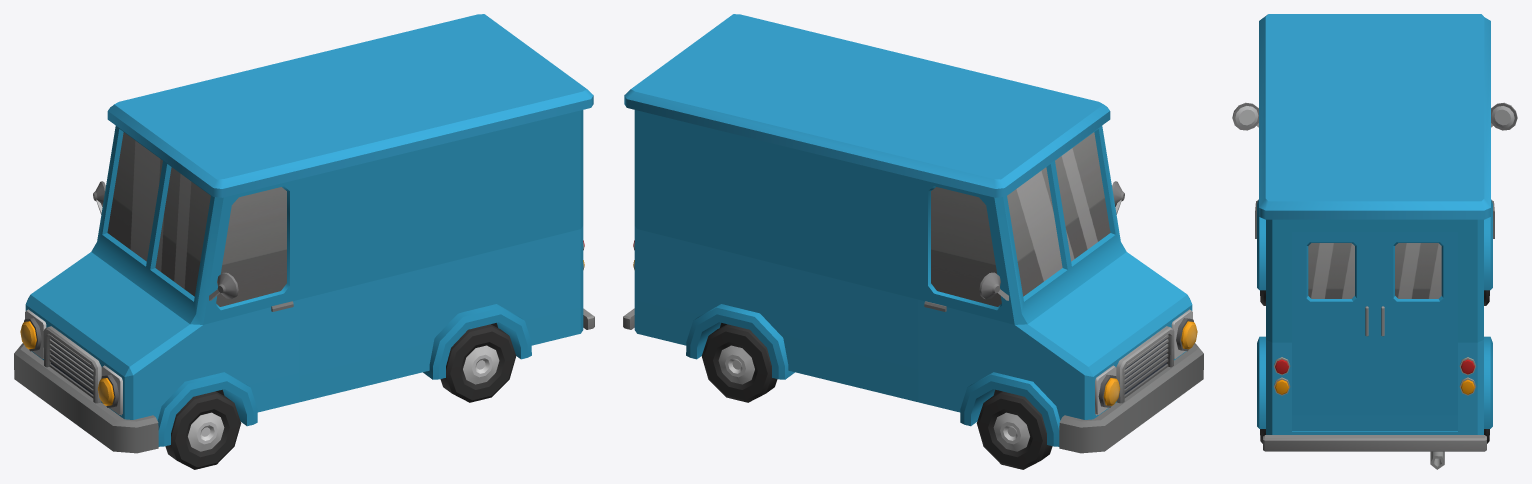
The model's file is Car_16_C.gltf.
3 renders of one model, left to right at view 1: azimuth 30°, elevation 25°; view 2: azimuth 150°, elevation 25°; view 3: azimuth 270°, elevation 25°, orthographic. The views are drawn at different scales.
Visible parts, largest first — view 1: Car_16_C, RL, FL; view 2: Car_16_C, RR, FR; view 3: Car_16_C.
Part boxes in pixels (x1,y1,x2,y2): Car_16_C: [14, 14, 594, 453]; RL: [440, 324, 516, 402]; FL: [165, 391, 241, 469]; Car_16_C: [623, 14, 1203, 453]; RR: [701, 324, 777, 402]; FR: [976, 391, 1052, 469]; Car_16_C: [1232, 14, 1517, 469].
Bounding box in the file's own units: 3.66 × 2.04 × 1.8.
4 materials, 4 textured.
